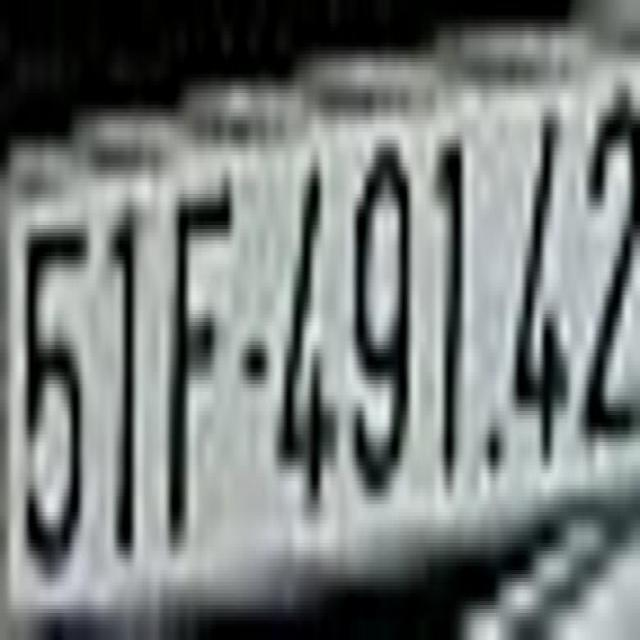1: (104, 198, 145, 578), (430, 116, 464, 508)
2: (581, 81, 640, 477)
4: (274, 148, 341, 528), (513, 101, 572, 496)
5: (20, 221, 88, 582)
9: (351, 124, 411, 512)
F: (161, 182, 237, 555)
